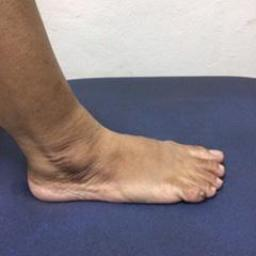Lateral View -Right Foot-: (6, 99, 235, 218)
